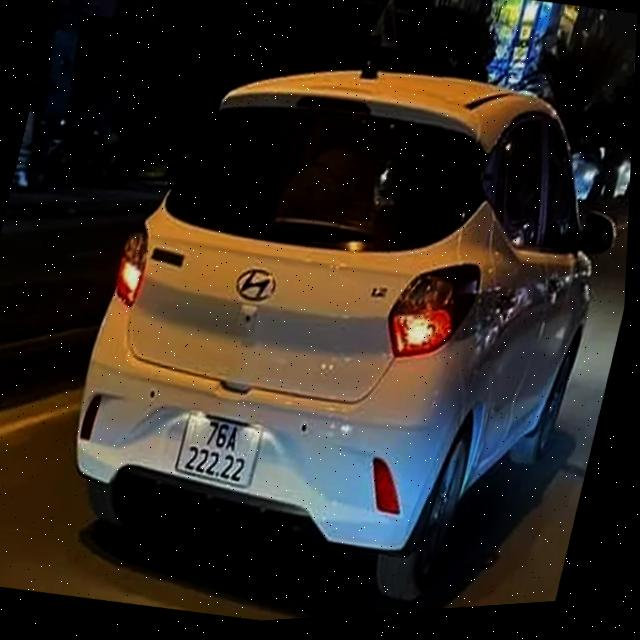car: (18, 0, 640, 637)
plate: (161, 401, 273, 500)
